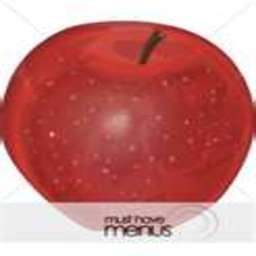apple: (3, 20, 255, 231)
